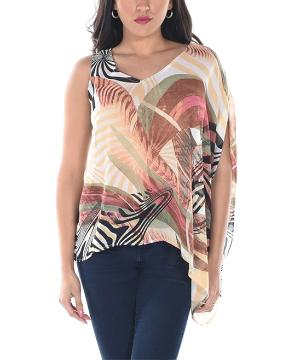C_tank top: (76, 42, 248, 323)
S_W_pants: (76, 233, 190, 360)
